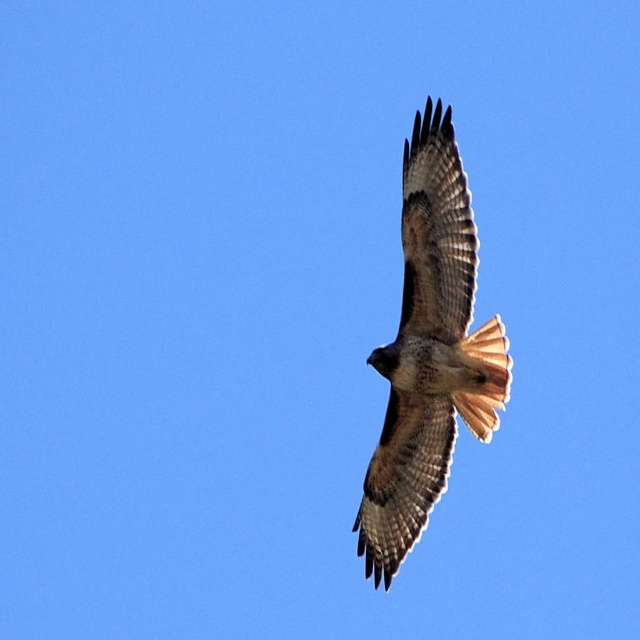Eagle: (351, 92, 514, 598)
